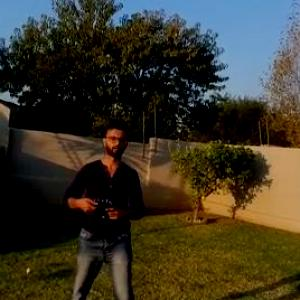follow: (60, 119, 154, 299)
